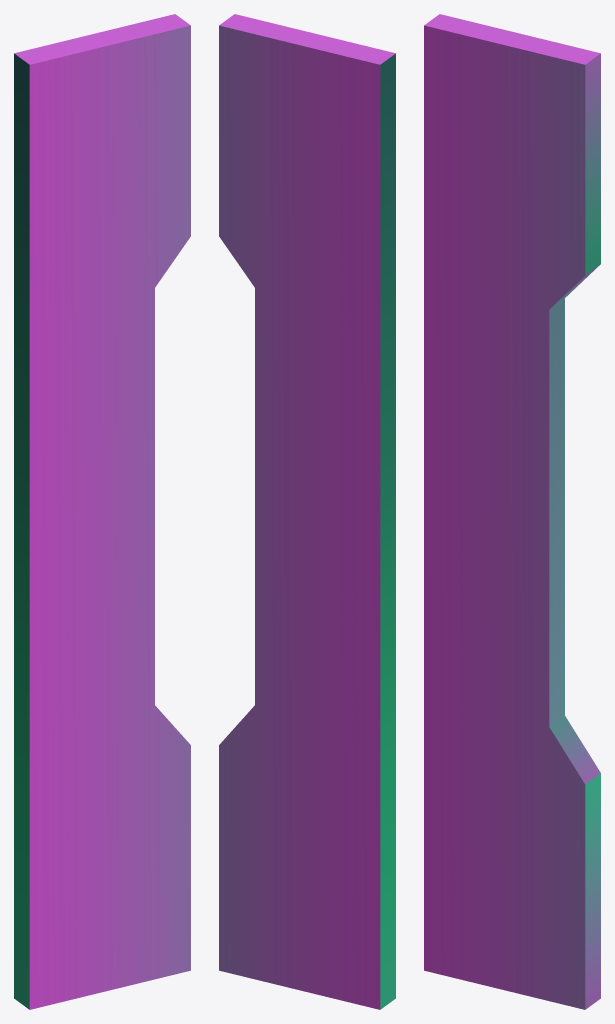
The model's file is Ram02.fbx.
3 renders of one model, left to right at view 1: azimuth 30°, elevation 25°; view 2: azimuth 150°, elevation 25°; view 3: azimuth 330°, elevation 25°, orthographic.
Visible parts, largest first — view 1: pCube19; view 2: pCube19; view 3: pCube19.
Boxes of the visible parts, x1,y1,x2,y2 form: pCube19: [14, 14, 190, 1009]; pCube19: [219, 14, 395, 1009]; pCube19: [424, 14, 600, 1009].
Size of the model in its own units: 0.8604 by 4.82 by 0.1452.
